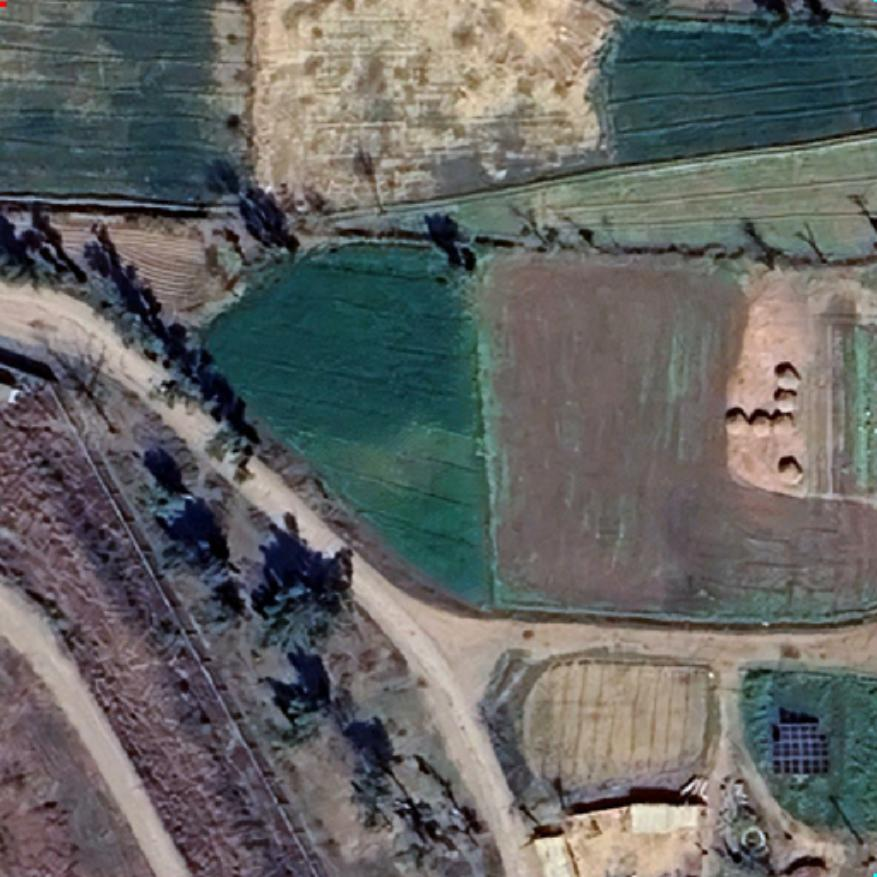Solarpanel: (767, 718, 835, 780)
